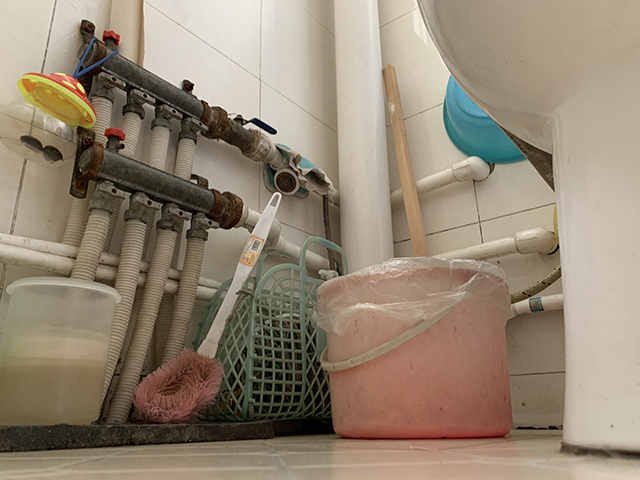closestool: (413, 1, 639, 458)
trashcan: (311, 256, 514, 440)
